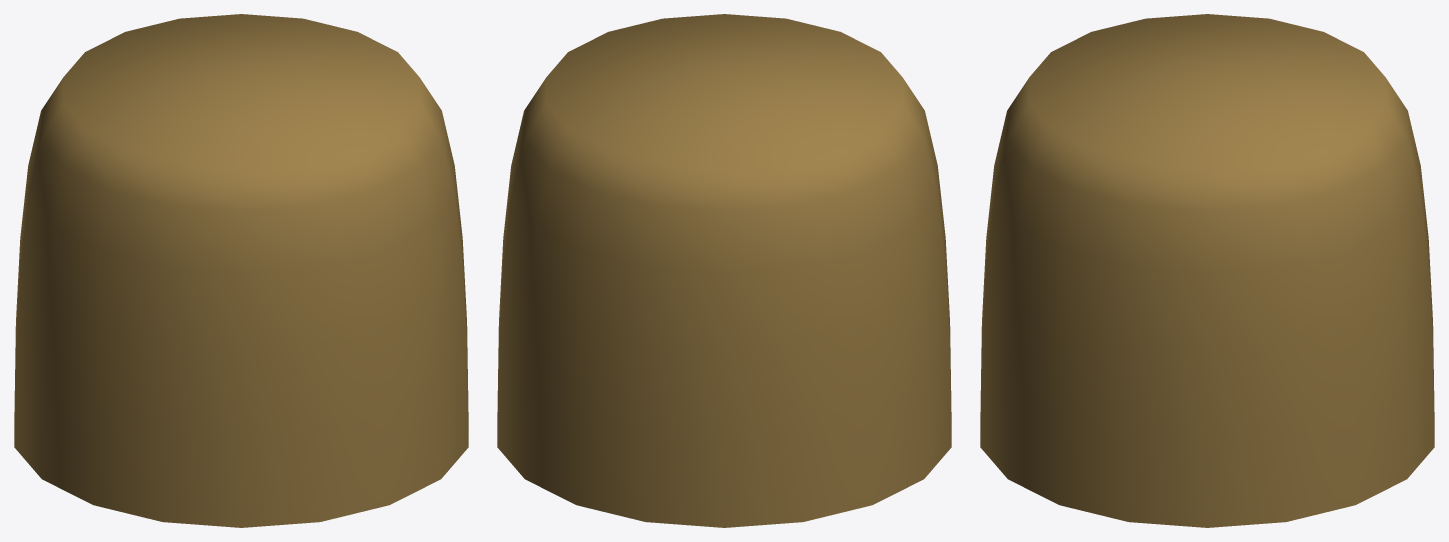
Rendered from silk_robe.obj.
3 views of the same model, side by side, from view 1: azimuth 30°, elevation 25°; view 2: azimuth 150°, elevation 25°; view 3: azimuth 270°, elevation 25° (orthographic).
Visible parts, largest first — view 1: silk_robe; view 2: silk_robe; view 3: silk_robe.
Boxes of the visible parts, x1,y1,x2,y2 form: silk_robe: [14, 14, 468, 527]; silk_robe: [497, 14, 951, 527]; silk_robe: [980, 14, 1434, 527].
Size of the model in its own units: 1.4 by 1.18 by 1.38.
